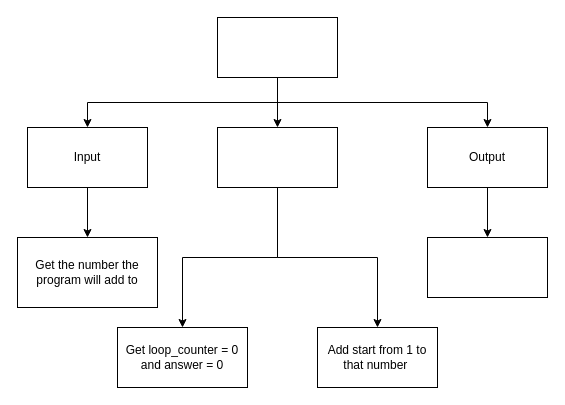
The diagram is 565 pixels wide and 405 high, and some of its shapes have lost their labels. The centre of each missing label's shape, as x and y in pixels:
Adding: [277,47]
Process: [277,157]
Show the result sum: [487,267]
